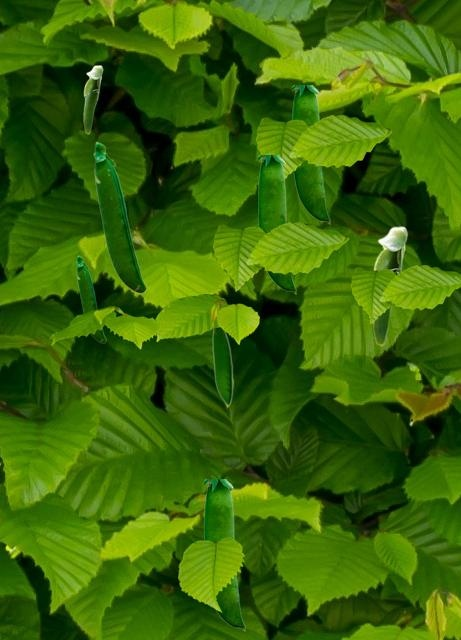pea: (93, 141, 145, 292), (204, 479, 244, 630), (292, 85, 329, 223), (258, 155, 295, 293), (372, 226, 407, 345), (76, 255, 105, 342), (212, 328, 232, 408), (83, 65, 102, 133)
